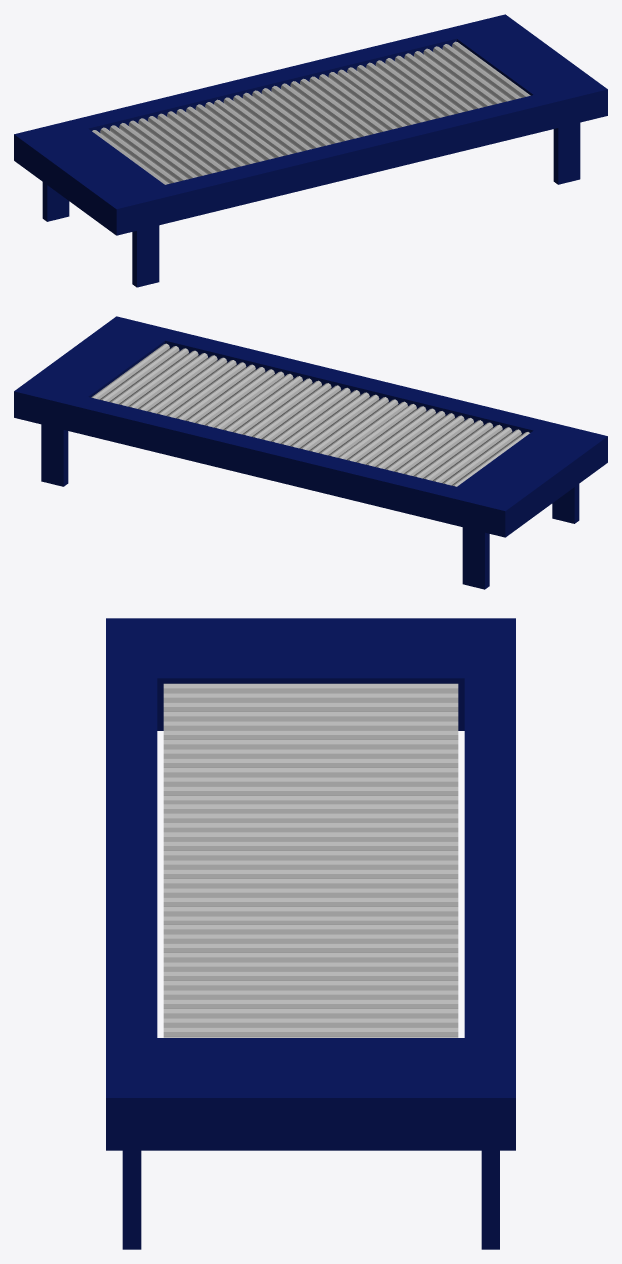
File: belt.fbx
3 renders of one model, top to bottom at view 1: azimuth 30°, elevation 25°; view 2: azimuth 150°, elevation 25°; view 3: azimuth 270°, elevation 25°, orthographic. The views are drawn at different scales.
Visible parts, largest first — view 1: defaultMaterial; view 2: defaultMaterial; view 3: defaultMaterial.
Boxes of the visible parts, x1,y1,x2,y2 form: defaultMaterial: (14,14,607,287); defaultMaterial: (14,316,607,589); defaultMaterial: (106,618,515,1249).
Bounding box in the file's own units: 554 × 94 × 200.
2 materials, 2 textured.
